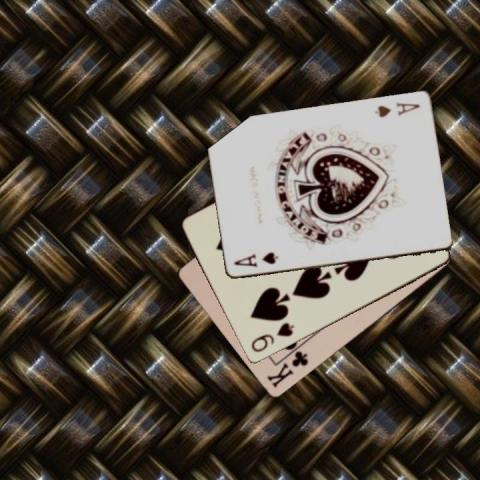9s: (248, 320, 296, 354)
As: (372, 100, 422, 120), (231, 250, 279, 269)
Kc: (264, 348, 309, 390)
